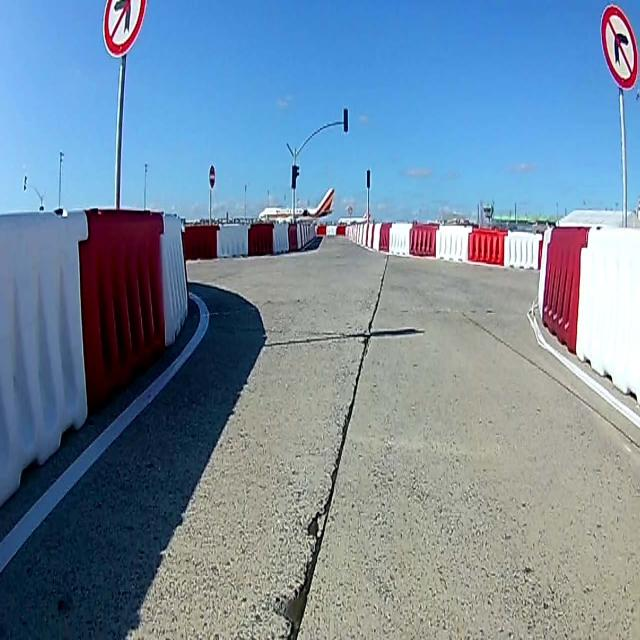sagadonulmez: (602, 4, 640, 89)
soladonulmez: (105, 1, 146, 49)
